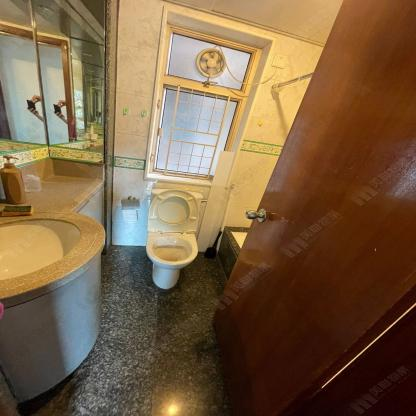Exhaust Fan: (192, 44, 233, 80)
Toilet: (145, 187, 205, 289)
Toilet Sink: (0, 210, 105, 294)
